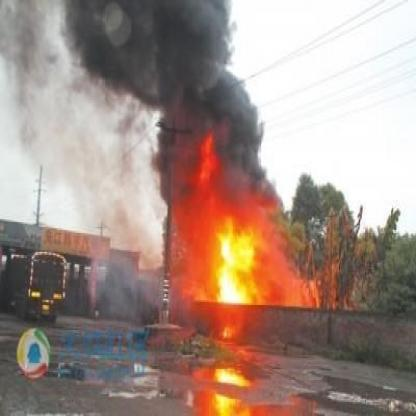fire: (207, 212, 259, 309)
other: (34, 223, 110, 262), (205, 342, 245, 411), (11, 324, 52, 382), (30, 280, 59, 314)
smoke: (154, 89, 282, 216), (67, 4, 231, 98), (1, 7, 58, 115)
